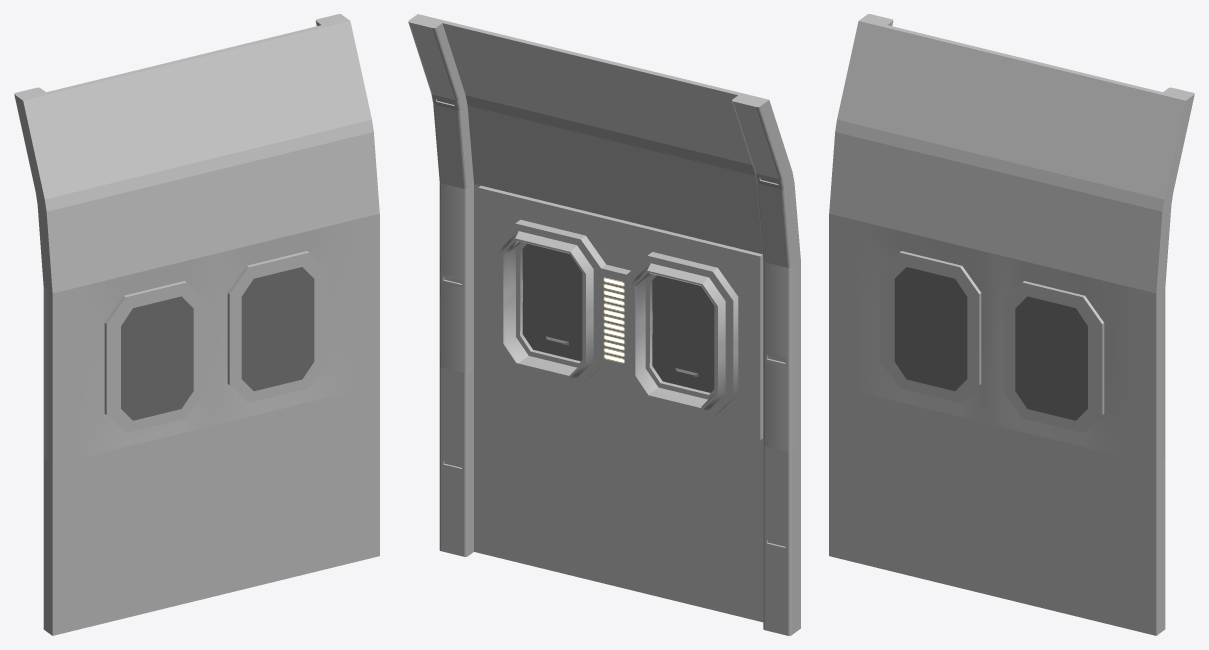
File: Windows_Test.fbx
3 views of the same model, side by side, from view 1: azimuth 30°, elevation 25°; view 2: azimuth 150°, elevation 25°; view 3: azimuth 330°, elevation 25° (orthographic). The views are drawn at different scales.
Parts seen in each view (by area): view 1: Wall, Glass; view 2: Wall, Window01, Window02; view 3: Wall, Glass.
Part boxes in pixels (left/top/right/bottom): Wall: left=14, top=14, right=379, bottom=635; Glass: left=121, top=267, right=314, bottom=420; Wall: left=408, top=14, right=800, bottom=635; Window01: left=652, top=275, right=714, bottom=392; Window02: left=522, top=244, right=582, bottom=361; Wall: left=829, top=14, right=1194, bottom=635; Glass: left=894, top=267, right=1087, bottom=420.
Bounding box in the file's own units: 8 × 12 × 1.73.
